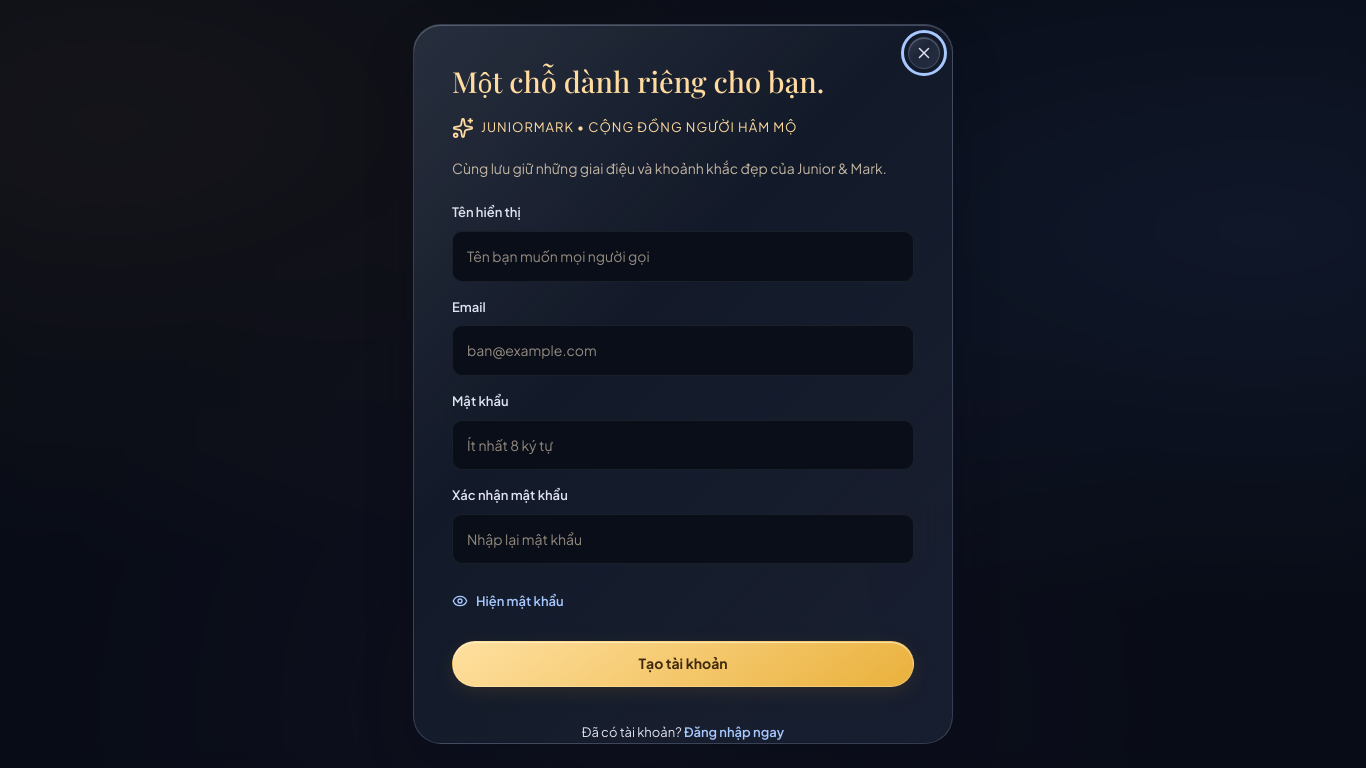
it: Biểu mẫu tài khoản › chờ xác nhận email sau đăng ký, không coi là đã đăng nhập
In the field labelled "Email": (683, 351) [452,326,914,376], type "fan@example.com"
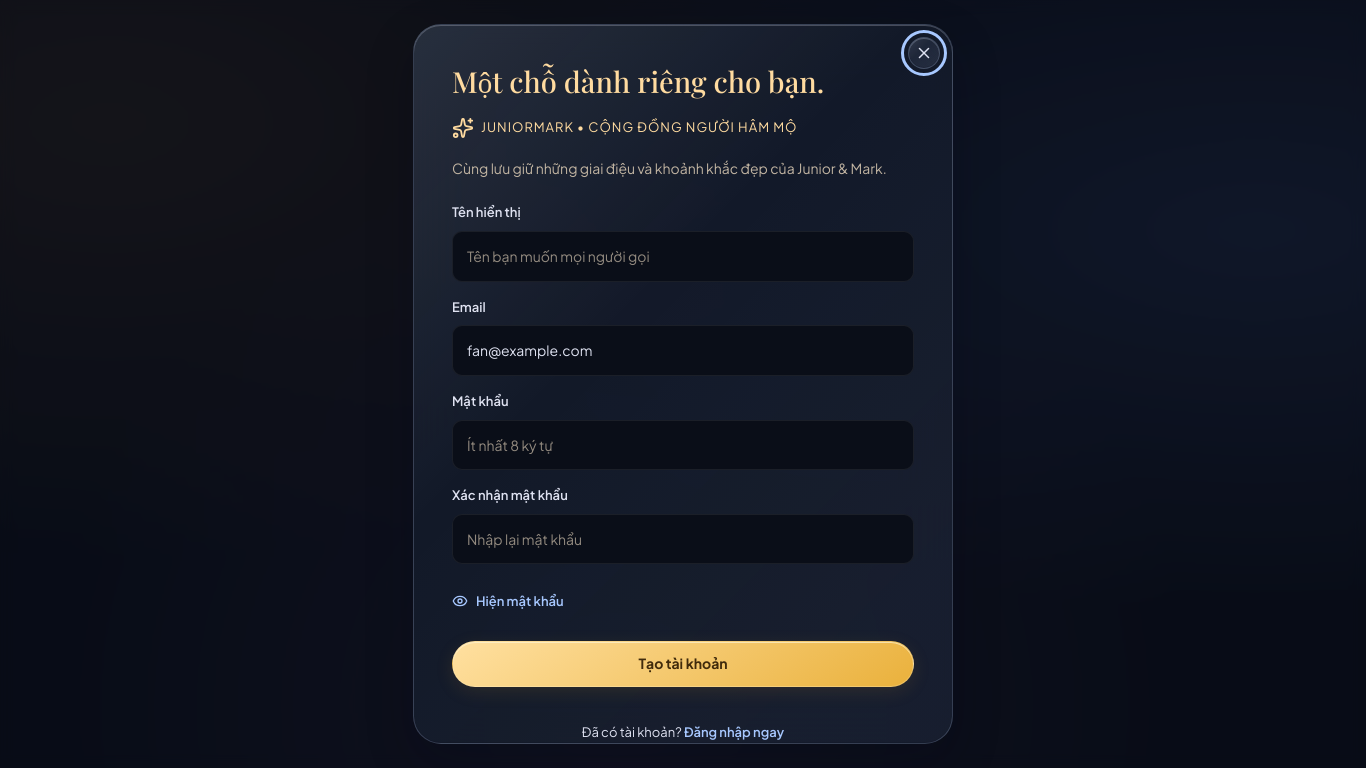
In the password field labelled "Mật khẩu": (683, 445) [452,420,914,470], type "safePass123"
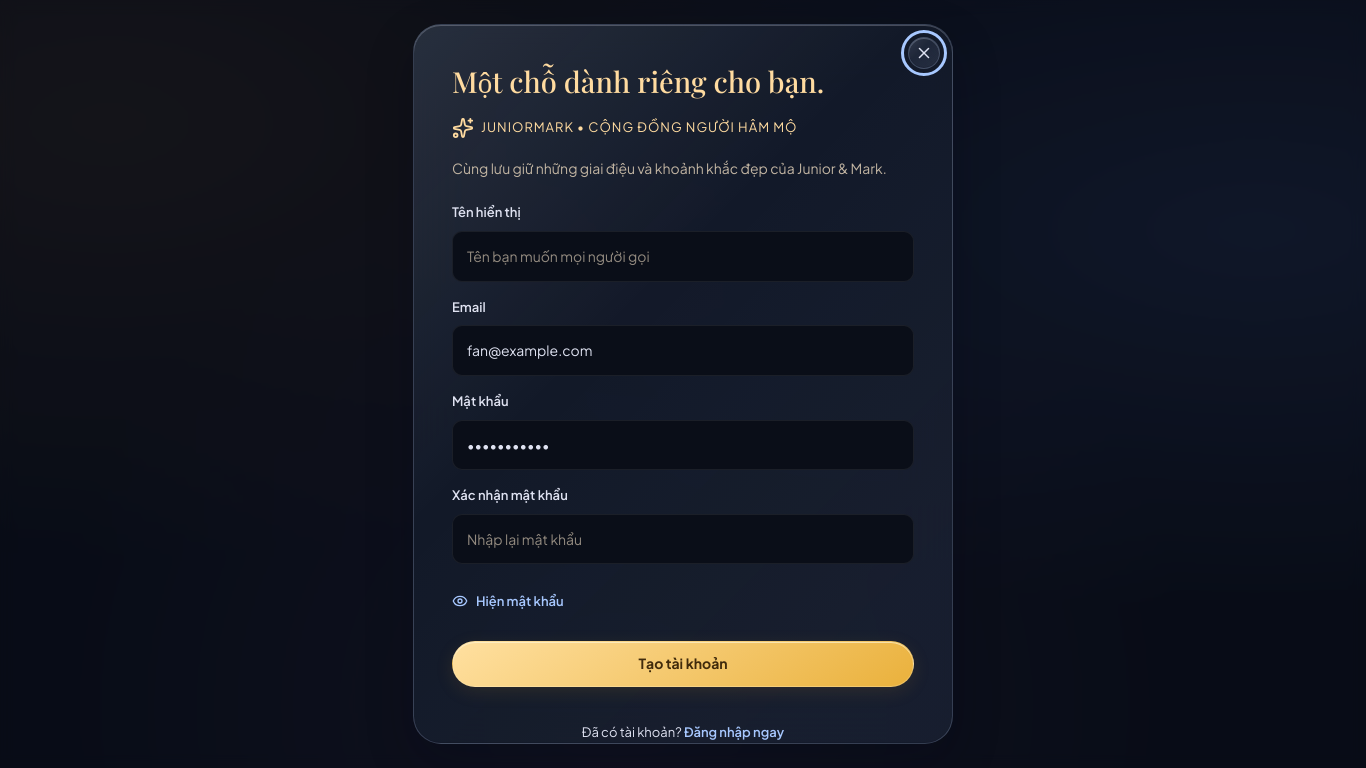
In the field labelled "Tên hiển thị": (683, 256) [452,231,914,282], type "Jummo"
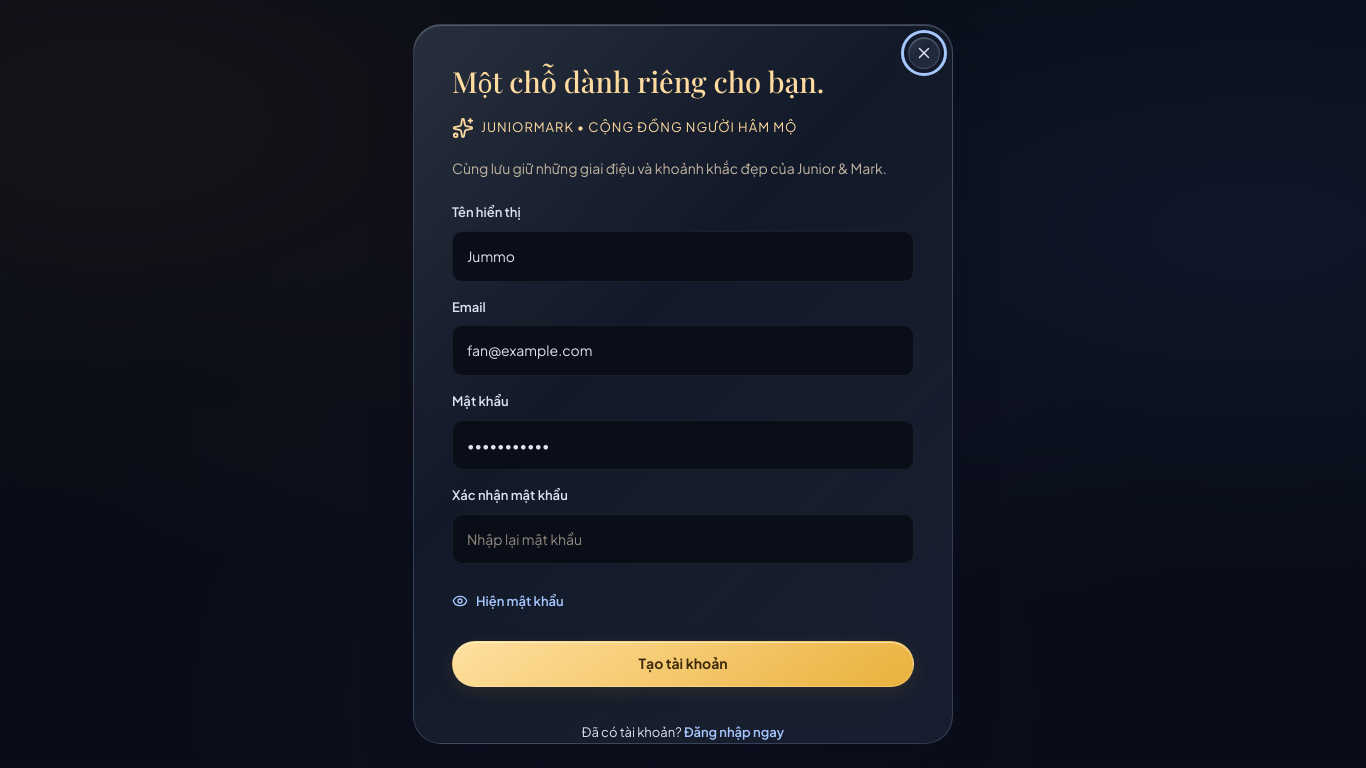
In the password field labelled "Xác nhận mật khẩu": (683, 539) [452,514,914,564], type "safePass123"
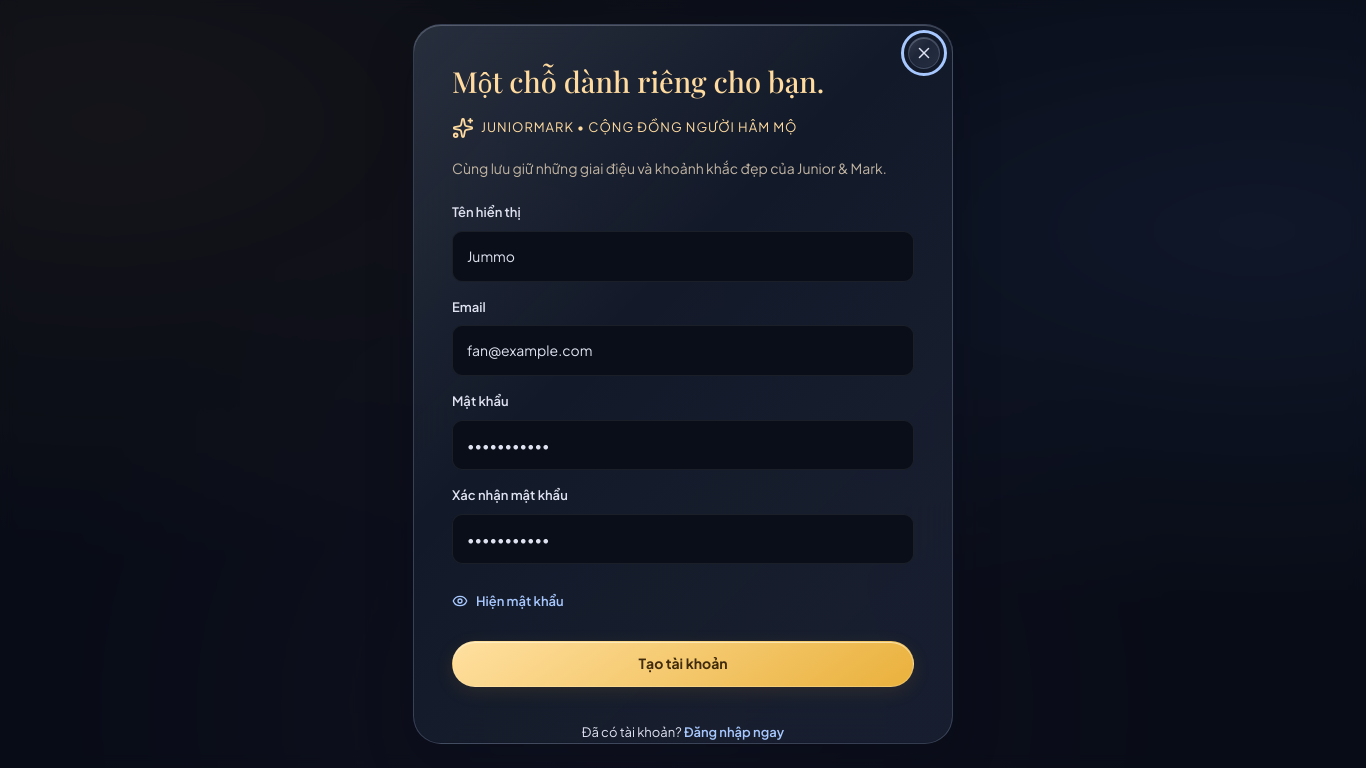
Click the button "Tạo tài khoản": (683, 664) [452,641,914,687]
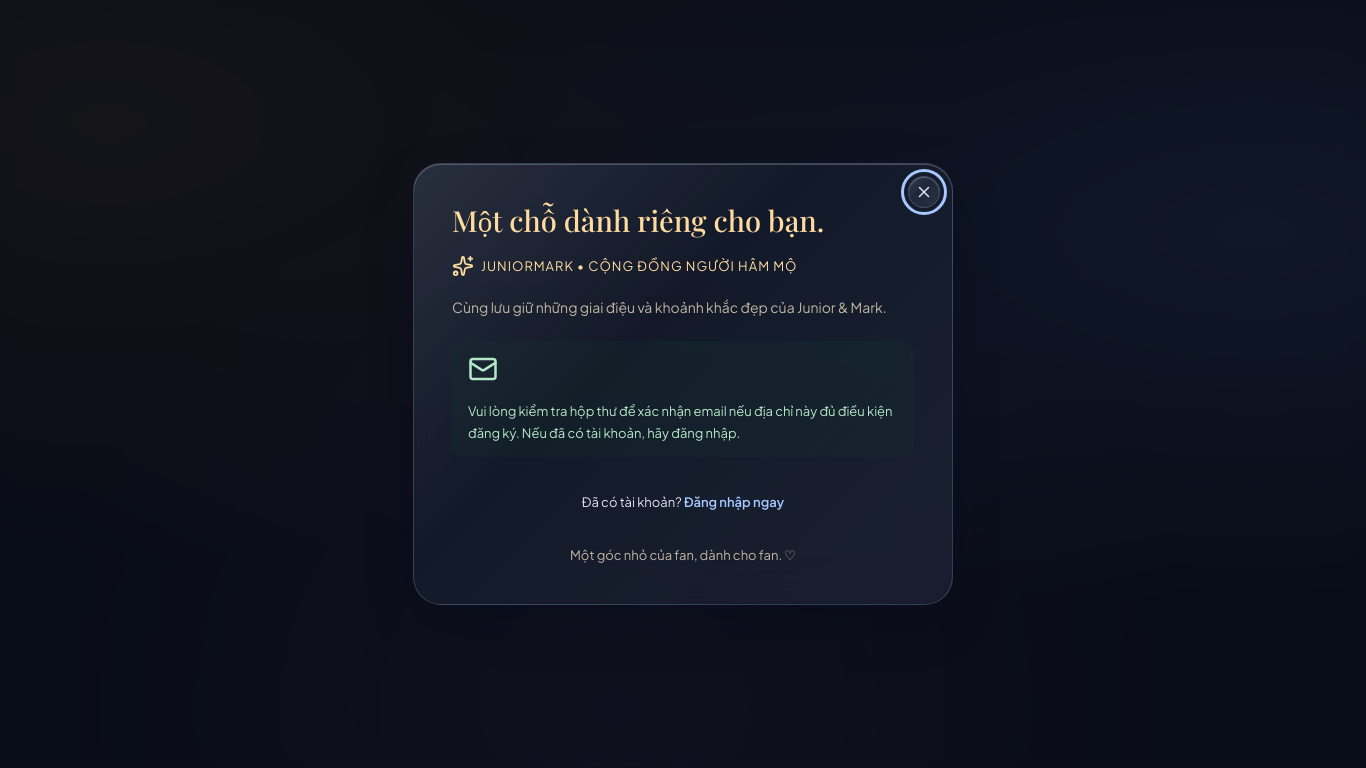
Check: the message shows "kiểm tra hộp thư", box [468,403,893,441]
